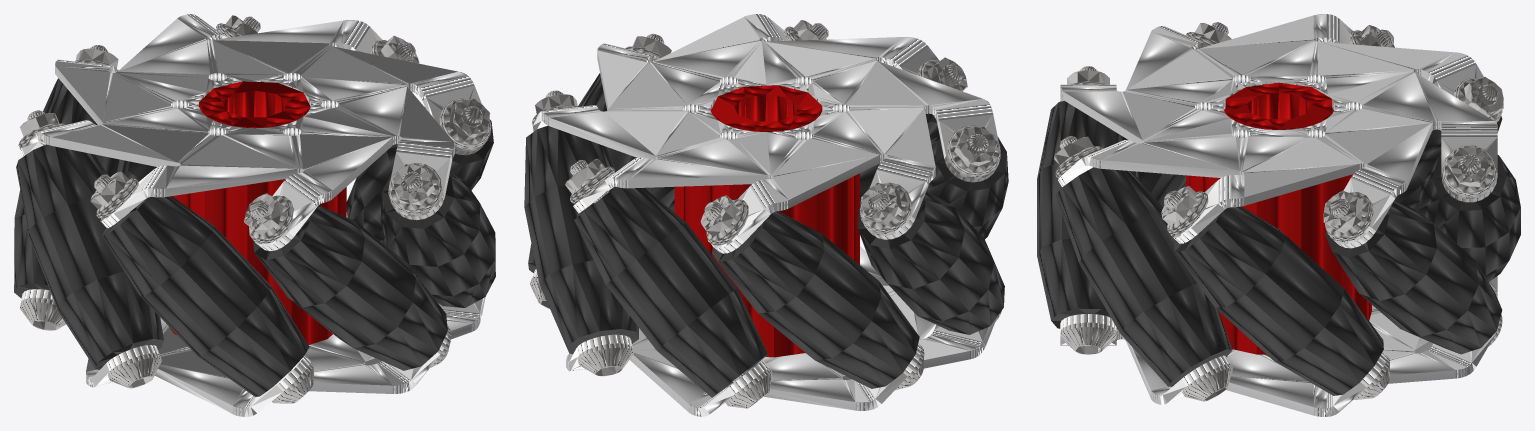
Rendered from mecanum_wheel.obj.
3 renders of one model, left to right at view 1: azimuth 30°, elevation 25°; view 2: azimuth 150°, elevation 25°; view 3: azimuth 270°, elevation 25°, orthographic.
Visible parts, largest first — view 1: New object; view 2: New object; view 3: New object.
Part boxes in pixels (bbox=[...]): New object: bbox=[14, 14, 495, 416]; New object: bbox=[524, 14, 1008, 416]; New object: bbox=[1037, 14, 1520, 416].
Size of the model in its own units: 0.2066 by 0.1028 by 0.2066.
